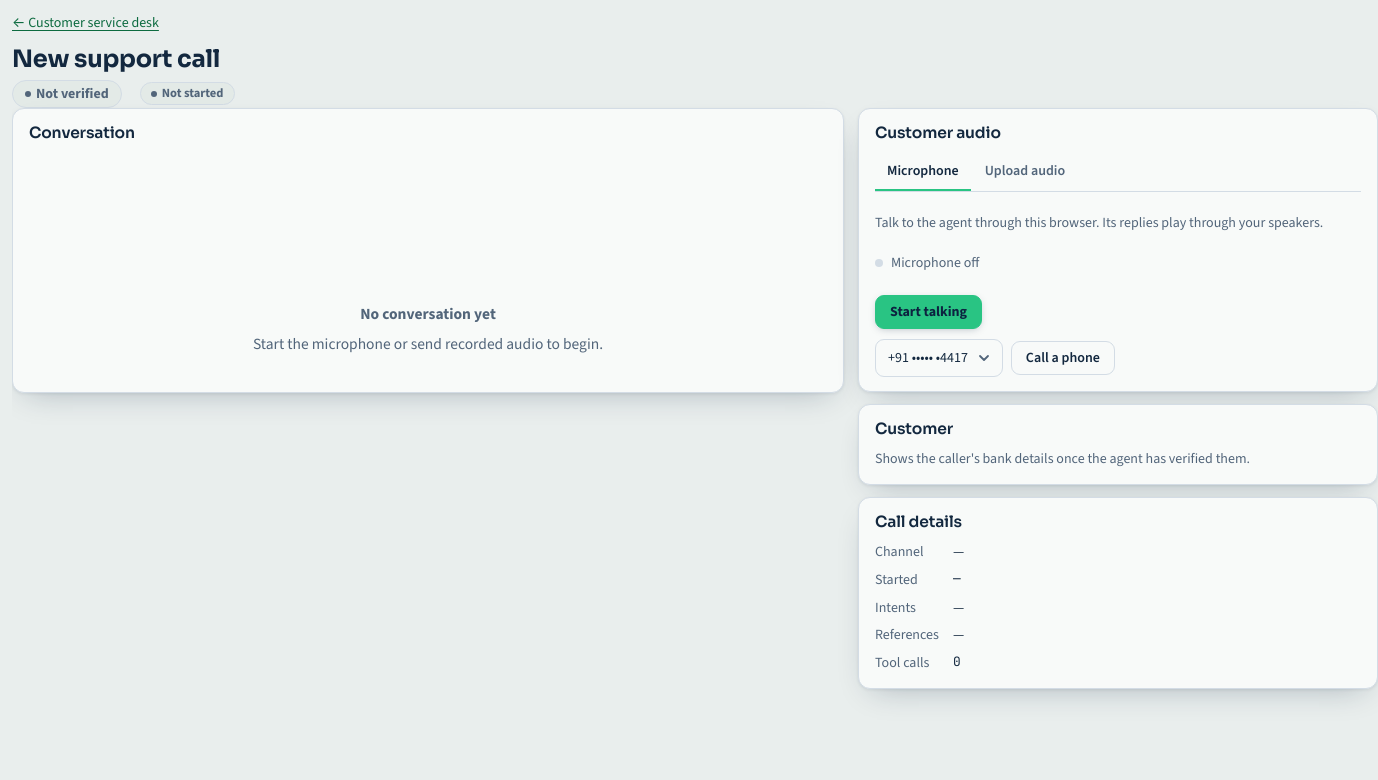
Test: SupportCall: call a phone › lists the masked numbers and rings the chosen one
Click the button named "Phone number". click: click(939, 358)
box: [875,339,1003,377]
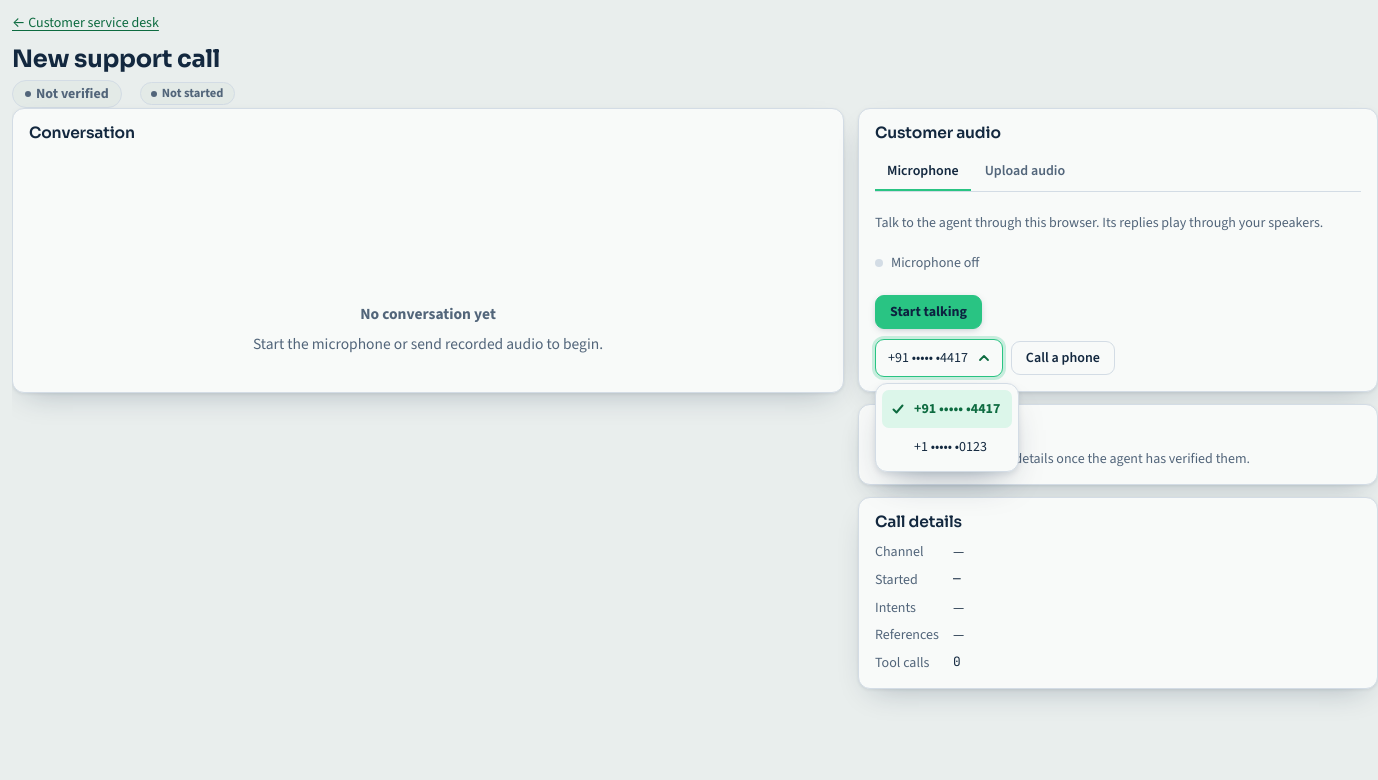
Check: the option "+91 ••••• •4417" is shown, box [882,390,1012,428]
Click the option "+1 ••••• •0123". click: click(950, 446)
box: [914,436,987,456]
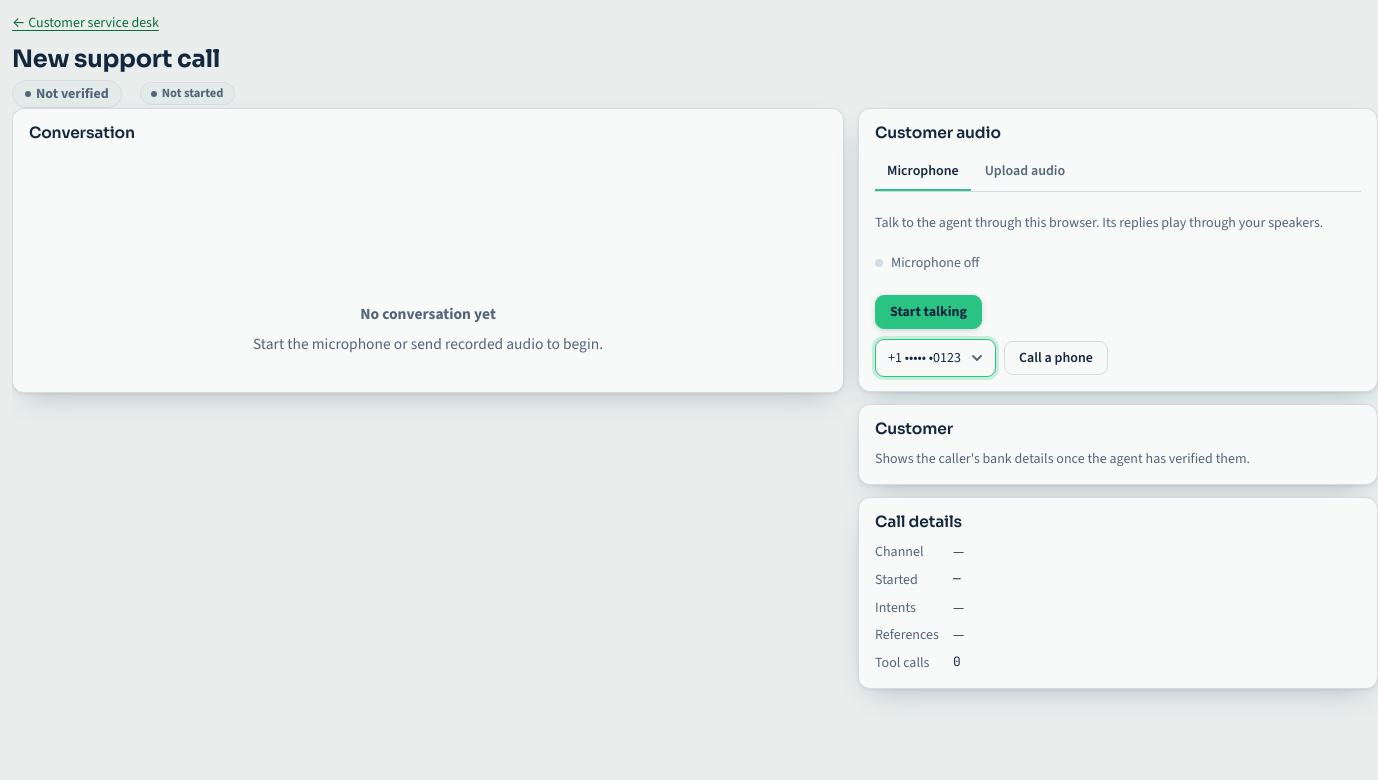
Click the button "Call a phone". click: click(1056, 358)
box: [1004,341,1108,374]
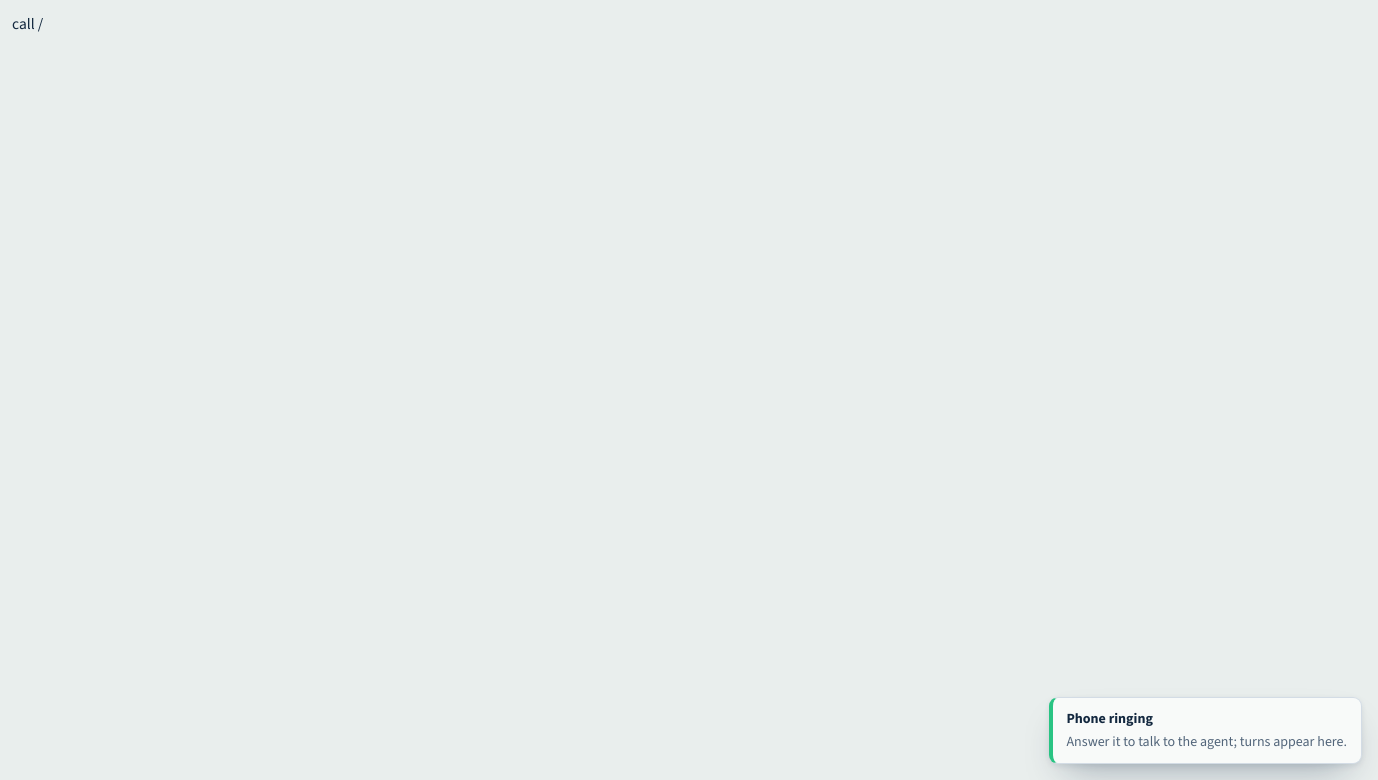
Check: the text "Phone ringing" is shown, box [1066,709,1153,728]
